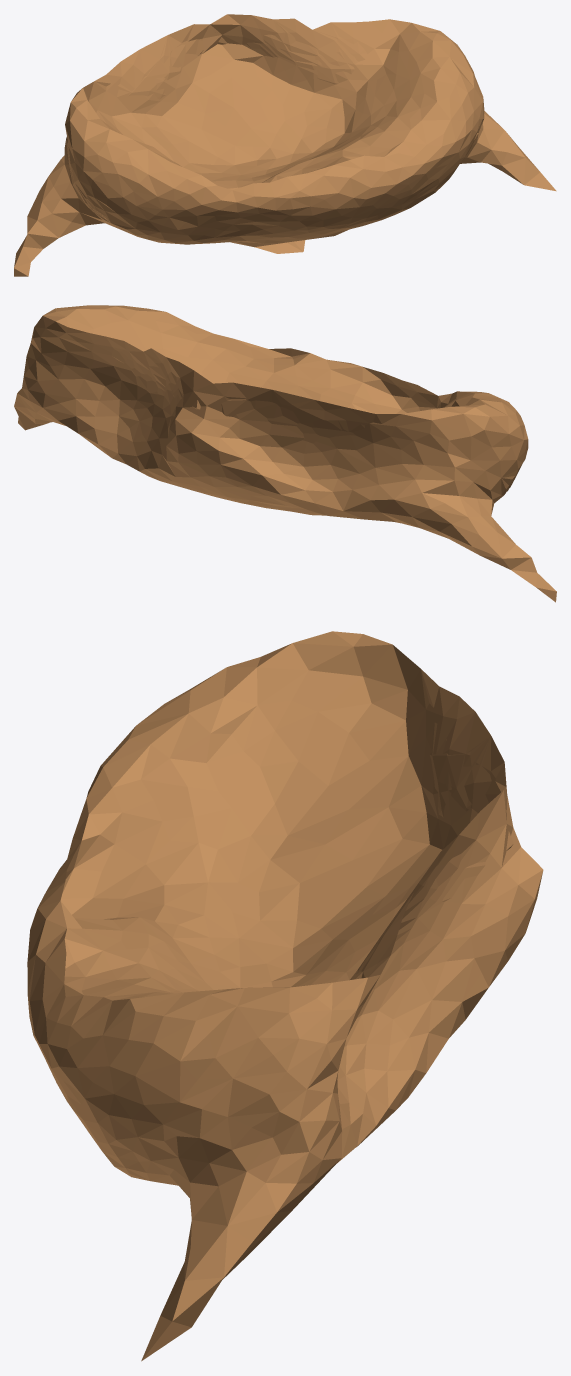
Rendered from Pillow.gltf.
The picture shows the model from 3 angles, top to bottom: view 1: azimuth 30°, elevation 25°; view 2: azimuth 150°, elevation 25°; view 3: azimuth 270°, elevation 25°; orthographic projection. The views are drawn at different scales.
Visible parts, largest first — view 1: Cube; view 2: Cube; view 3: Cube.
Part boxes in pixels (bbox=[...]): Cube: bbox=[14, 14, 556, 276]; Cube: bbox=[14, 305, 556, 602]; Cube: bbox=[27, 631, 543, 1361].
Bounding box in the file's own units: 3.65 × 1.23 × 1.64.
Materials: 1 (1 with a texture image).
